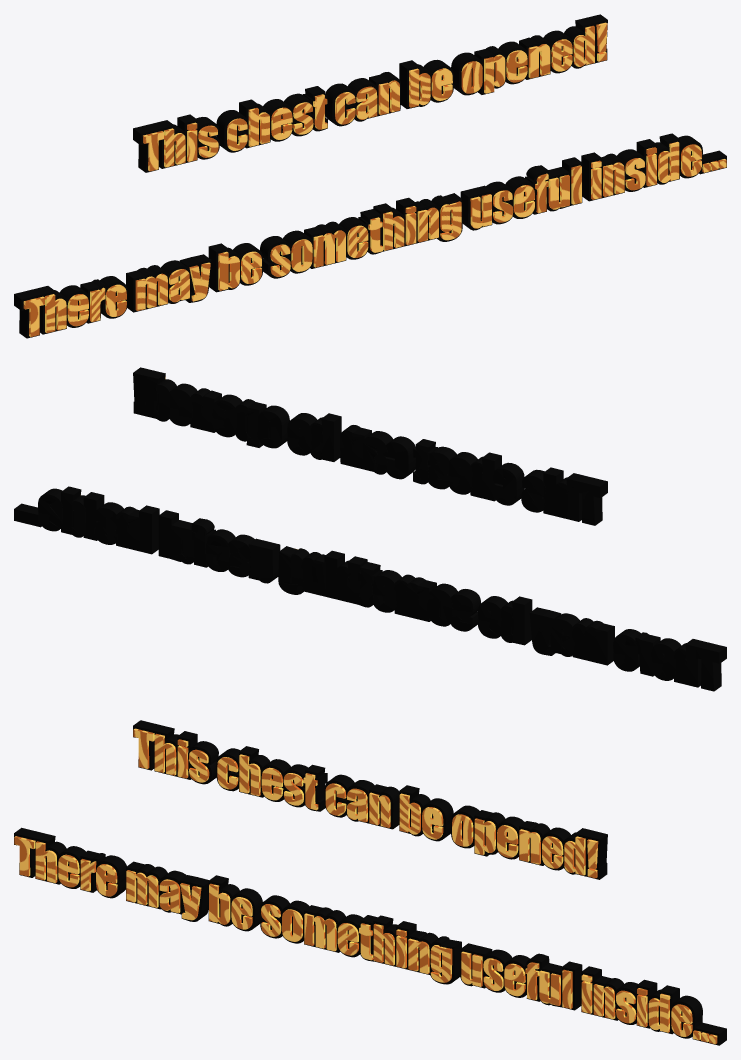
Rendered from hint3.glb.
3 renders of one model, top to bottom at view 1: azimuth 30°, elevation 25°; view 2: azimuth 150°, elevation 25°; view 3: azimuth 330°, elevation 25°, orthographic.
Parts seen in each view (by area): view 1: Text, Text.001; view 2: Text.001; view 3: Text, Text.001.
Boxes of the visible parts, box(x1,y1,x2,y2) form: Text: box(23, 22, 726, 336); Text.001: box(14, 14, 726, 338); Text.001: box(14, 367, 726, 691); Text: box(14, 728, 717, 1044); Text.001: box(14, 720, 726, 1045).
Size of the model in its own units: 10.81 by 2.67 by 0.2637.
2 materials, 1 textured.
